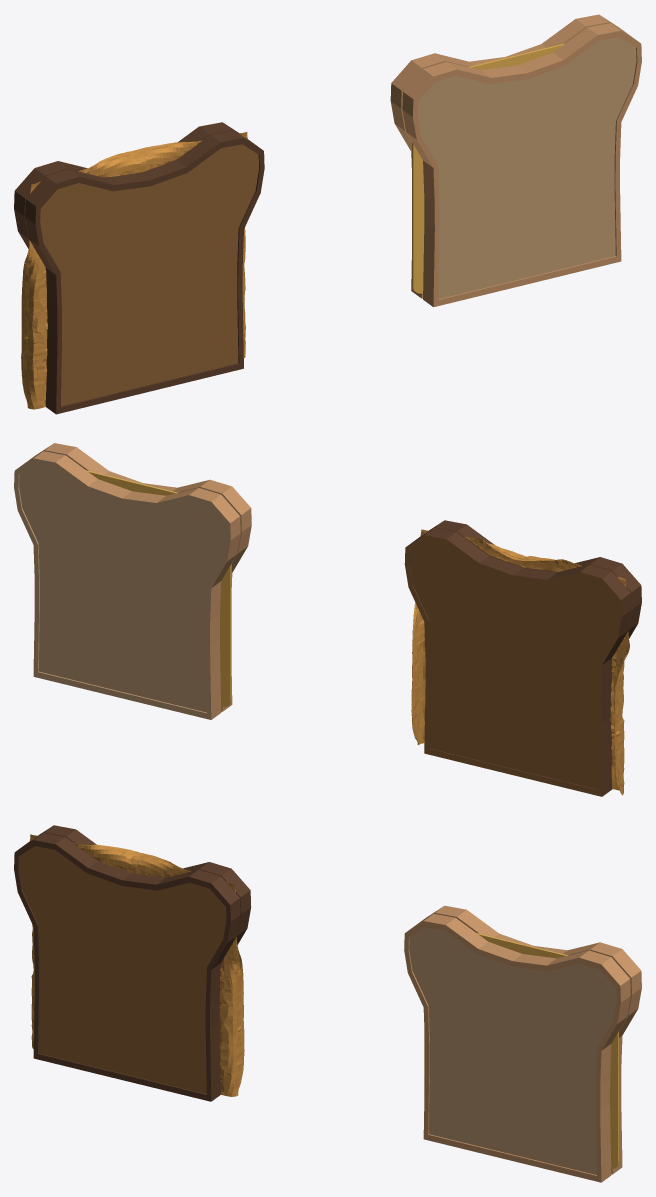
The model's file is grilledCheese.fbx.
3 views of the same model, one above another, from view 1: azimuth 30°, elevation 25°; view 2: azimuth 150°, elevation 25°; view 3: azimuth 330°, elevation 25° (orthographic). The views are drawn at different scales.
Visible parts, largest first — view 1: Cube.005, Cube.001, Cube.002, Plane; view 2: Cube.005, Cube.002, Cube.001, Plane; view 3: Cube.005, Cube.001, Cube.002, Plane.
Part boxes in pixels (x1,y1,x2,y2): Cube.005: [14, 122, 264, 414]; Cube.001: [402, 23, 641, 307]; Cube.002: [390, 14, 628, 298]; Plane: [412, 43, 565, 293]; Cube.005: [404, 520, 641, 796]; Cube.002: [14, 451, 240, 719]; Cube.001: [27, 443, 251, 711]; Plane: [86, 470, 231, 707]; Cube.005: [14, 825, 251, 1101]; Cube.001: [404, 913, 630, 1182]; Cube.002: [416, 905, 641, 1174]; Plane: [424, 933, 618, 1169].
Size of the model in its own units: 530 by 190 by 58.34.
